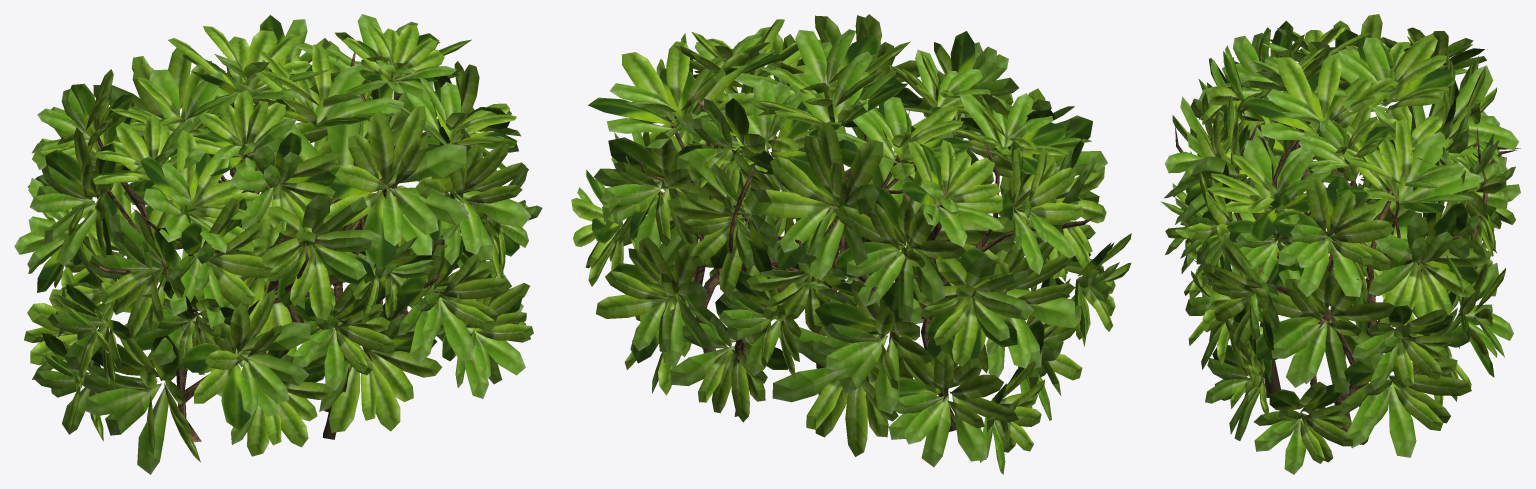
The model's file is hedge.glb.
3 views of the same model, side by side, from view 1: azimuth 30°, elevation 25°; view 2: azimuth 150°, elevation 25°; view 3: azimuth 270°, elevation 25° (orthographic). The views are drawn at different scales.
Size of the model in its own units: 151 by 106 by 105.
2 materials, 2 textured.
